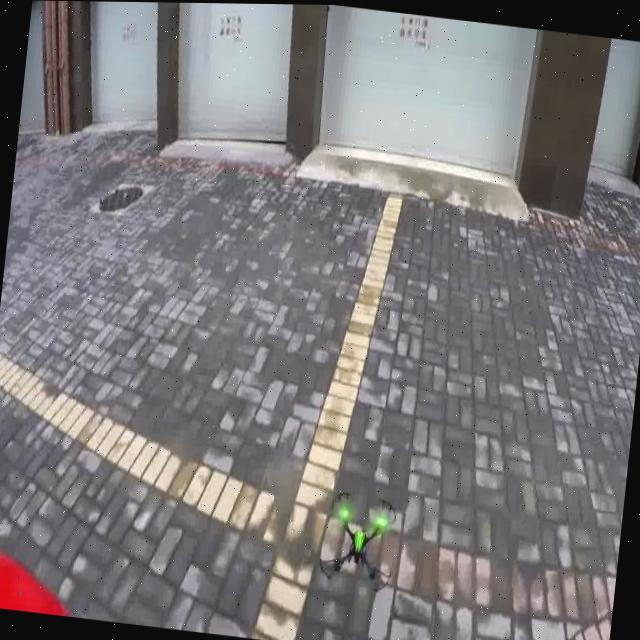drone: (313, 468, 409, 602)
